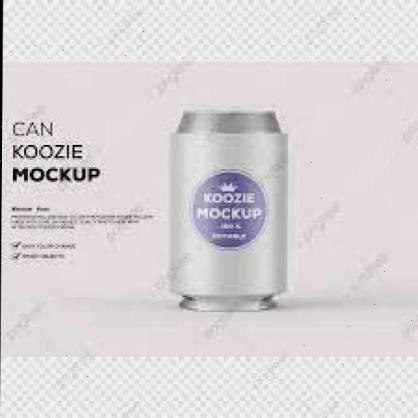can: (164, 106, 294, 314)
